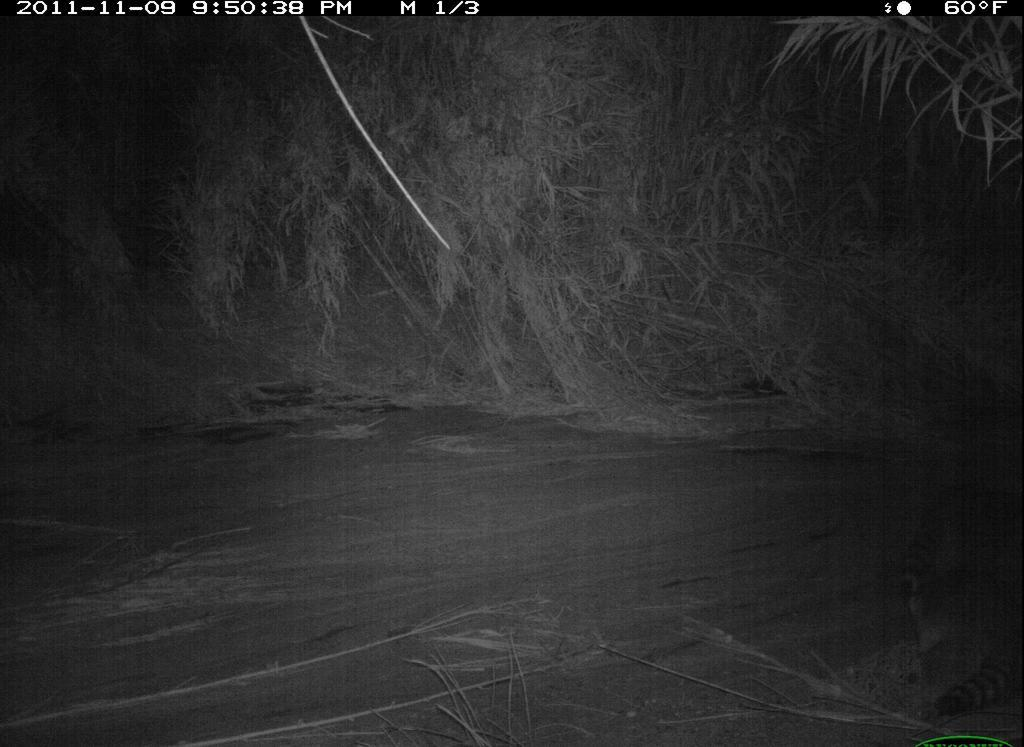raccoon: (899, 558, 1024, 721), (888, 463, 1021, 590)
